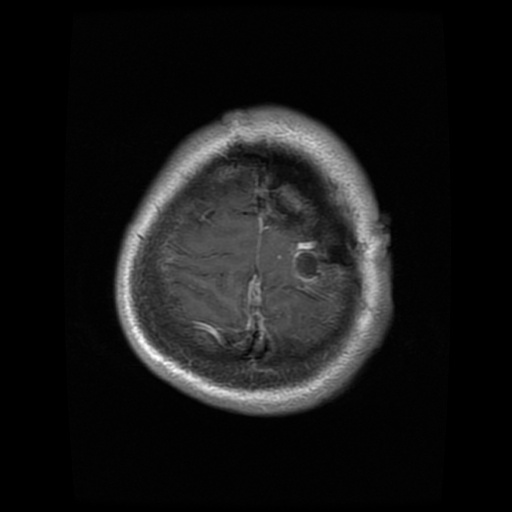glioma: (260, 165, 349, 288)
